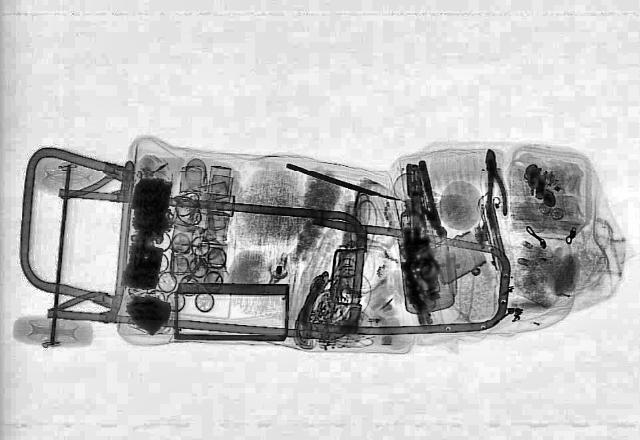Pliers: (477, 148, 511, 230)
